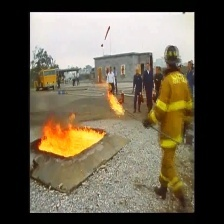fire: (35, 113, 106, 157), (105, 85, 124, 116)
